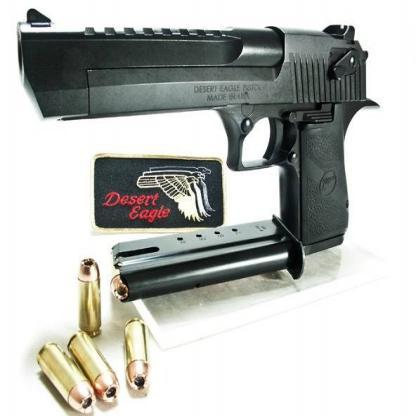Pistol: (13, 8, 382, 252)
